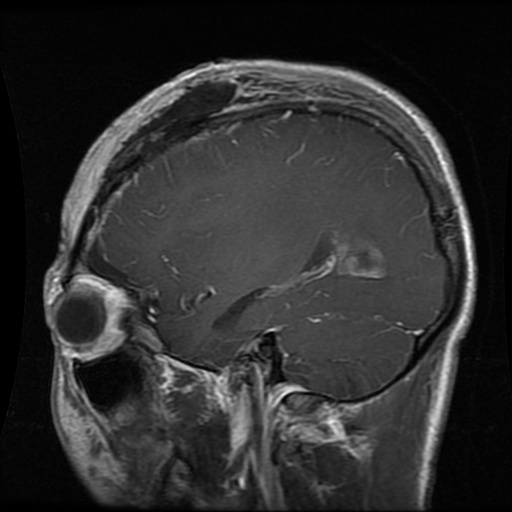glioma: (206, 227, 389, 335)
